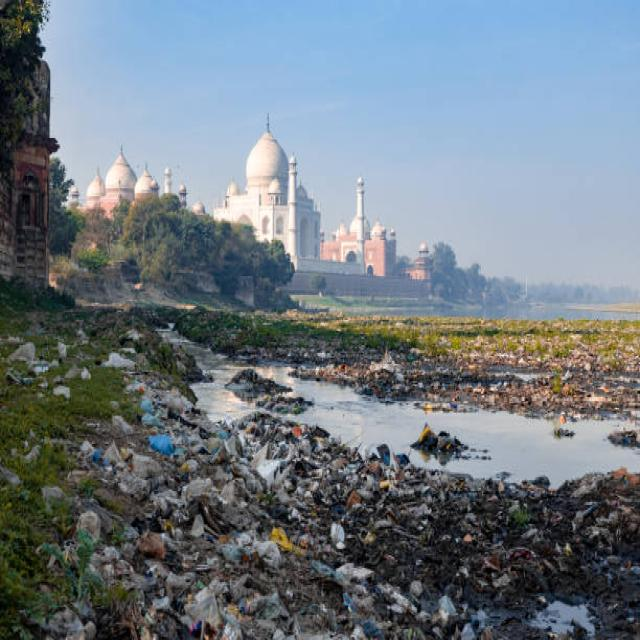plastic: (28, 398, 546, 634)
